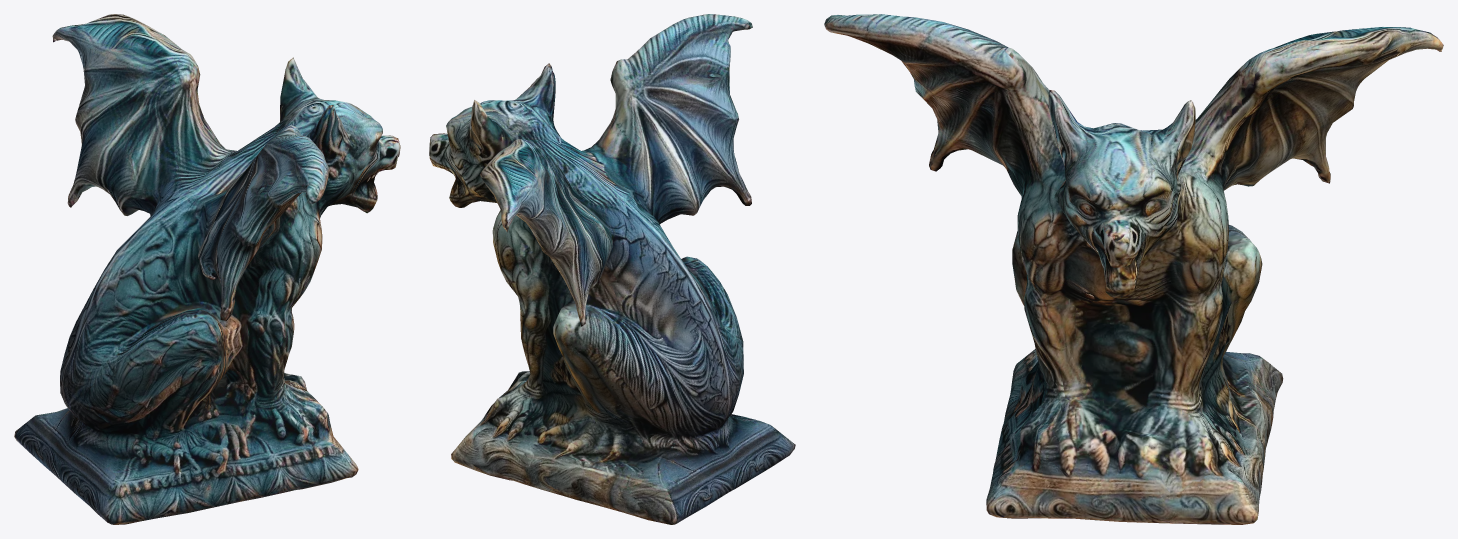
The model's file is gargoyle2.glb.
The picture shows the model from 3 angles, left to right: view 1: azimuth 30°, elevation 25°; view 2: azimuth 150°, elevation 25°; view 3: azimuth 270°, elevation 25°; orthographic projection. The views are drawn at different scales.
Visible parts, largest first — view 1: Object_2; view 2: Object_2; view 3: Object_2.
Part boxes in pixels (x1,y1,x2,y2): Object_2: [14, 14, 400, 524]; Object_2: [429, 14, 795, 524]; Object_2: [824, 14, 1443, 524].
Size of the model in its own units: 0.9042 by 1.03 by 1.2.
Materials: 1 (1 with a texture image).
